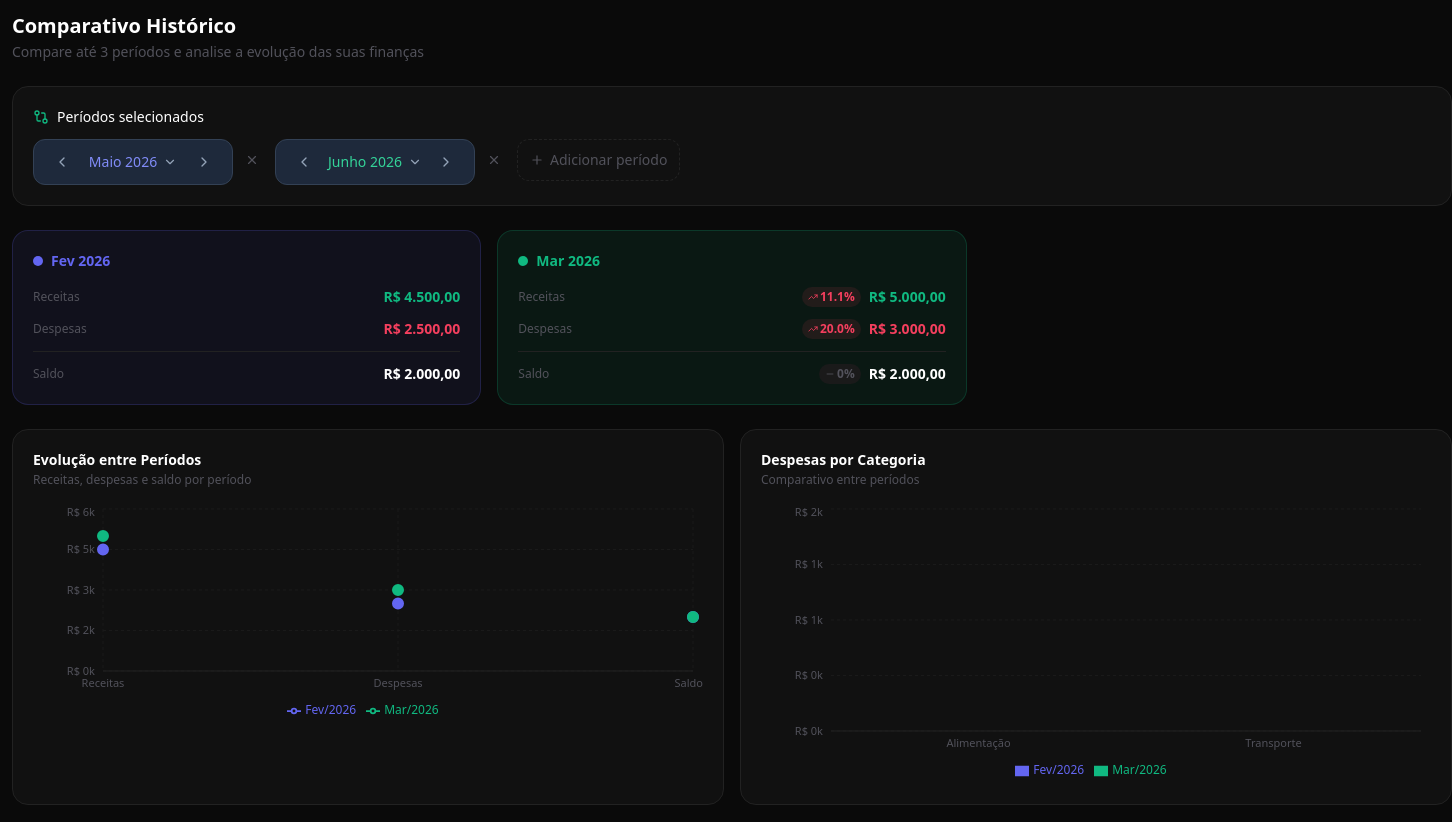
Test: ComparisonPage › deve adicionar período ao clicar em adicionar
Click the button "Adicionar período".
click(599, 160)  # box [517, 139, 680, 181]
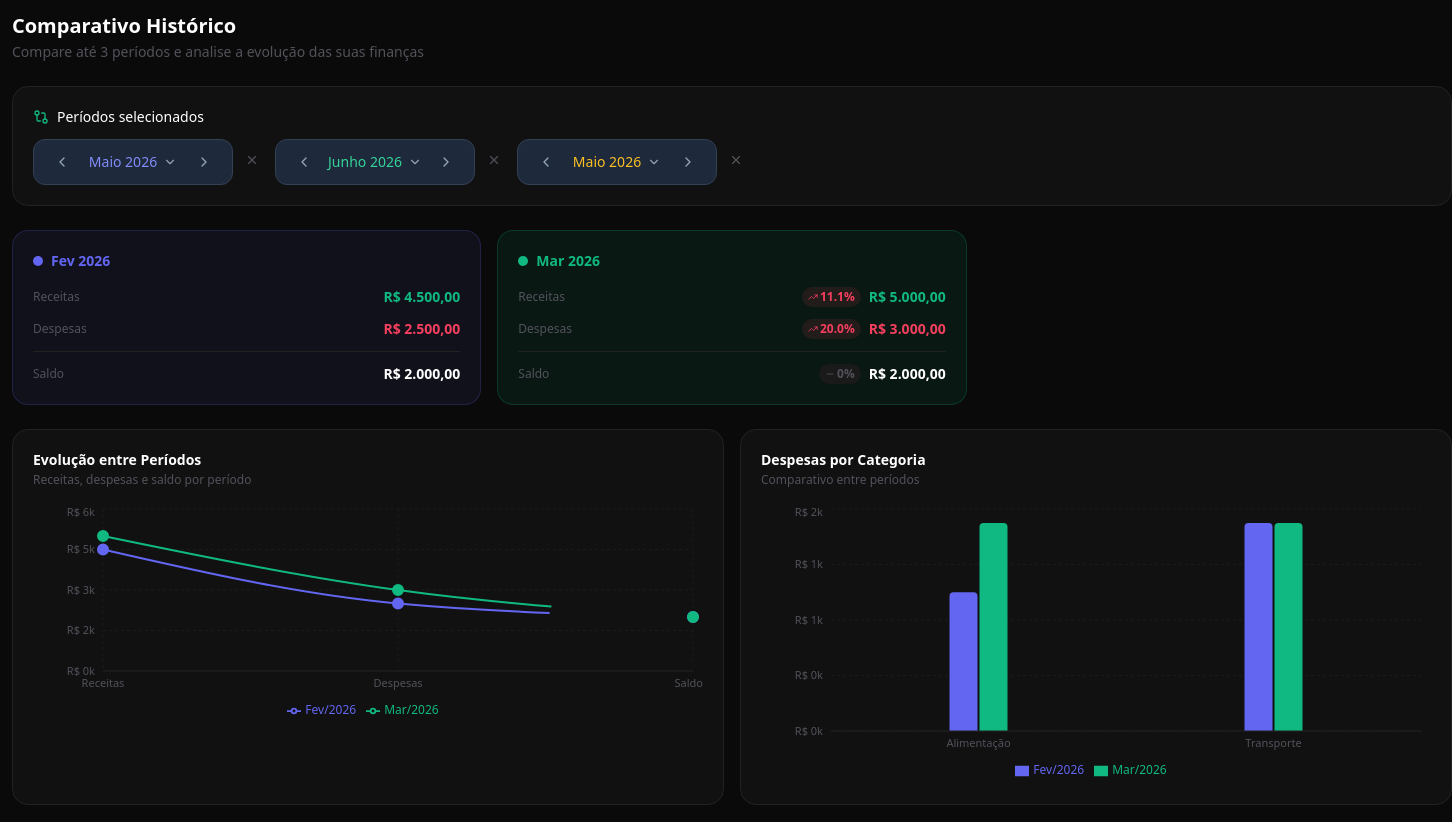
Check: the button "Adicionar período" is gone
